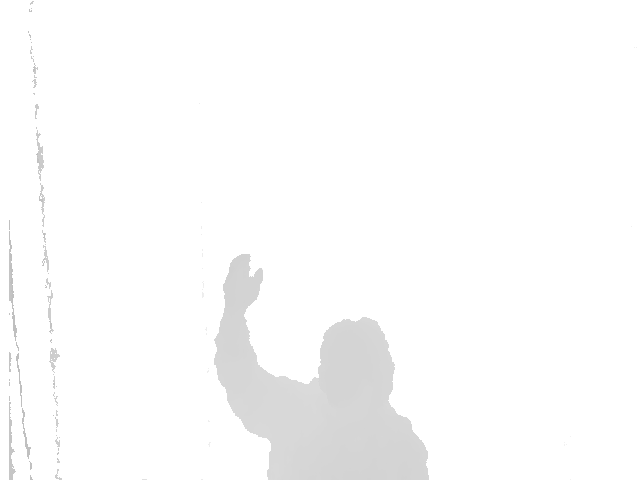hand: (220, 253, 263, 319)
head: (319, 316, 395, 401)
person: (214, 252, 429, 480)
